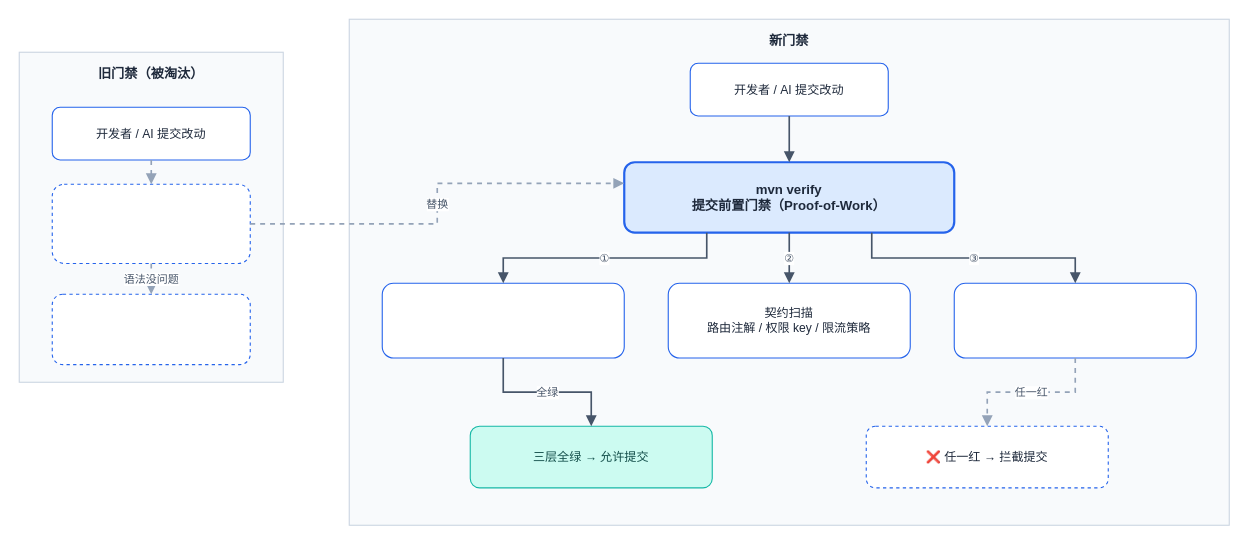
The diagram is 1249 pixels wide and 545 high, and some of its shapes have lost their labels. The centre of each missing label's shape, as x and y in pixels:
"E2E 兜底 真实链路再拦一道" belongs at pixel 1074 320.
"mvn compile 只校验语法契约 类型 / 签名 / 引用" belongs at pixel 150 223.
"❌ 绿灯放行 并发守卫 / 行为被静默删除" belongs at pixel 150 329.
"分层测试 UT / IT / E2E 并发路径、锁顺序、幂等键" belongs at pixel 502 320.
